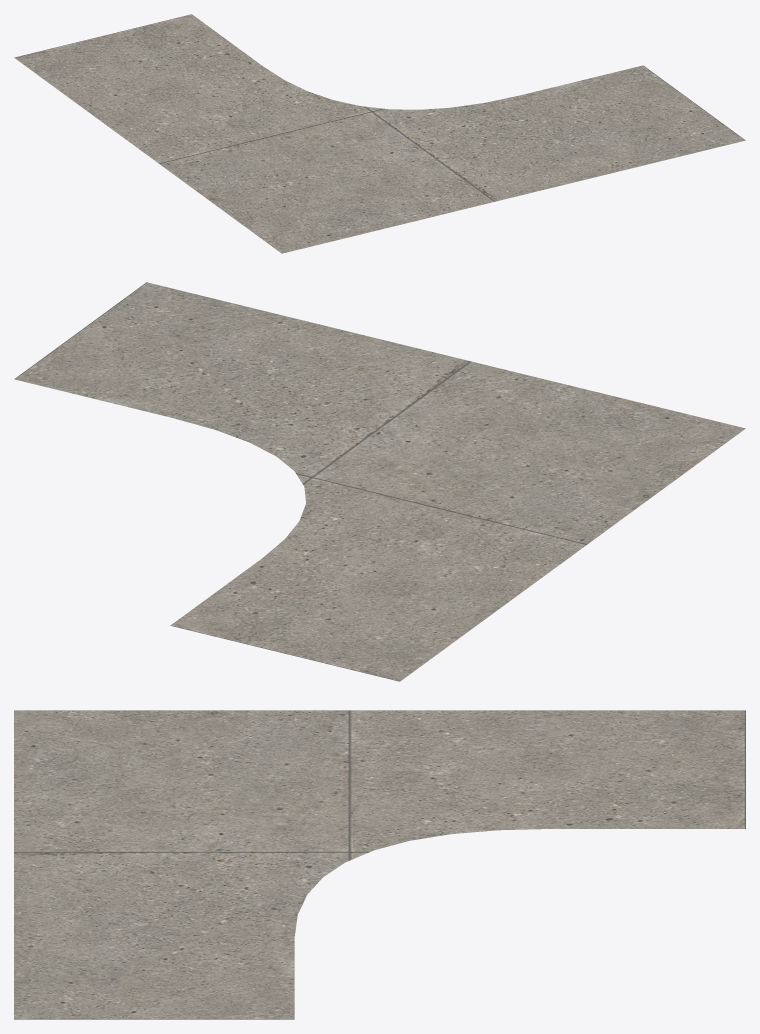
The model's file is SM_PAVING_0_0_Standard.fbx.
The picture shows the model from 3 angles, top to bottom: view 1: azimuth 30°, elevation 25°; view 2: azimuth 150°, elevation 25°; view 3: azimuth 270°, elevation 25°; orthographic projection. The views are drawn at different scales.
Parts seen in each view (by area): view 1: SM_Update_PAVING_0_0_Standard_v001; view 2: SM_Update_PAVING_0_0_Standard_v001; view 3: SM_Update_PAVING_0_0_Standard_v001.
Boxes of the visible parts, <box> form: SM_Update_PAVING_0_0_Standard_v001: <box>14,14,745,253</box>; SM_Update_PAVING_0_0_Standard_v001: <box>14,282,745,681</box>; SM_Update_PAVING_0_0_Standard_v001: <box>14,710,745,1019</box>.
Size of the model in its own units: 1.85 by 0 by 1.85.
Materials: 1 (1 with a texture image).
